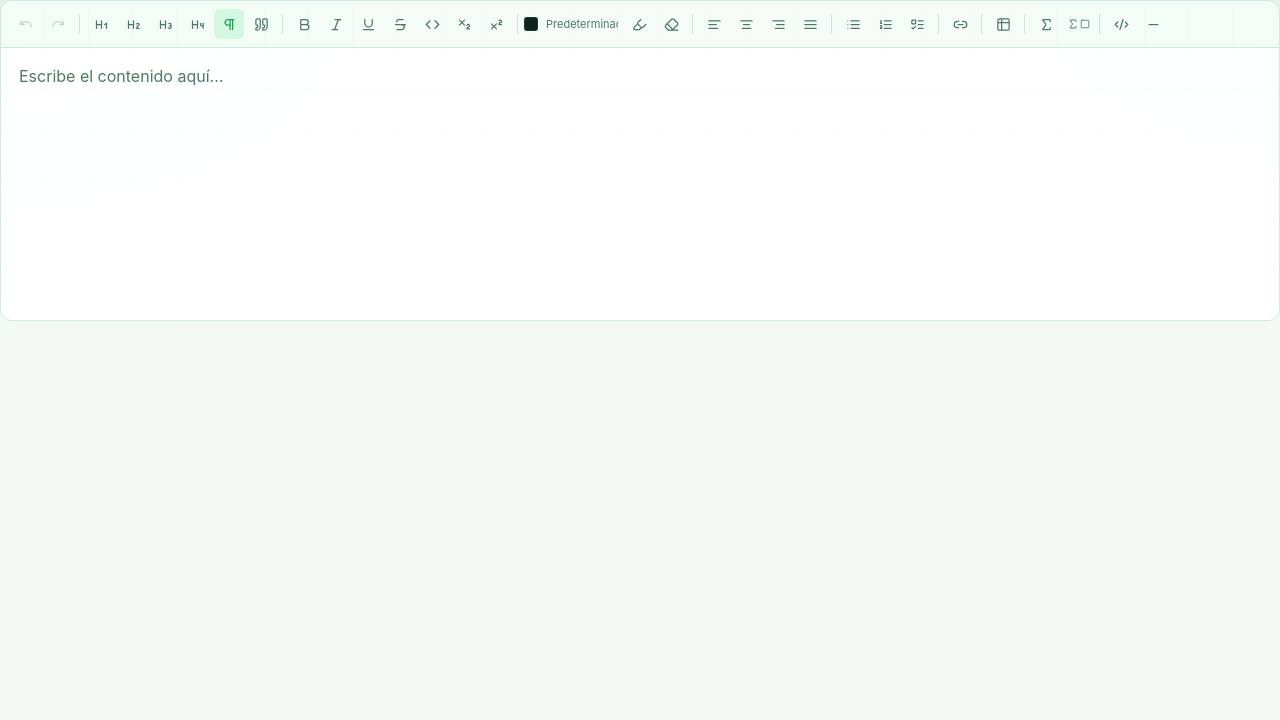
Test case: Math formula support › opens math modal when block math button is clicked
The width and height of the screenshot is (1280, 720).
What coordinates should you click on to do the following:
click the button titled "Fórmula en bloque destacado"
I would click on:
 (1078, 24)
Its box is [1063,9,1093,39].
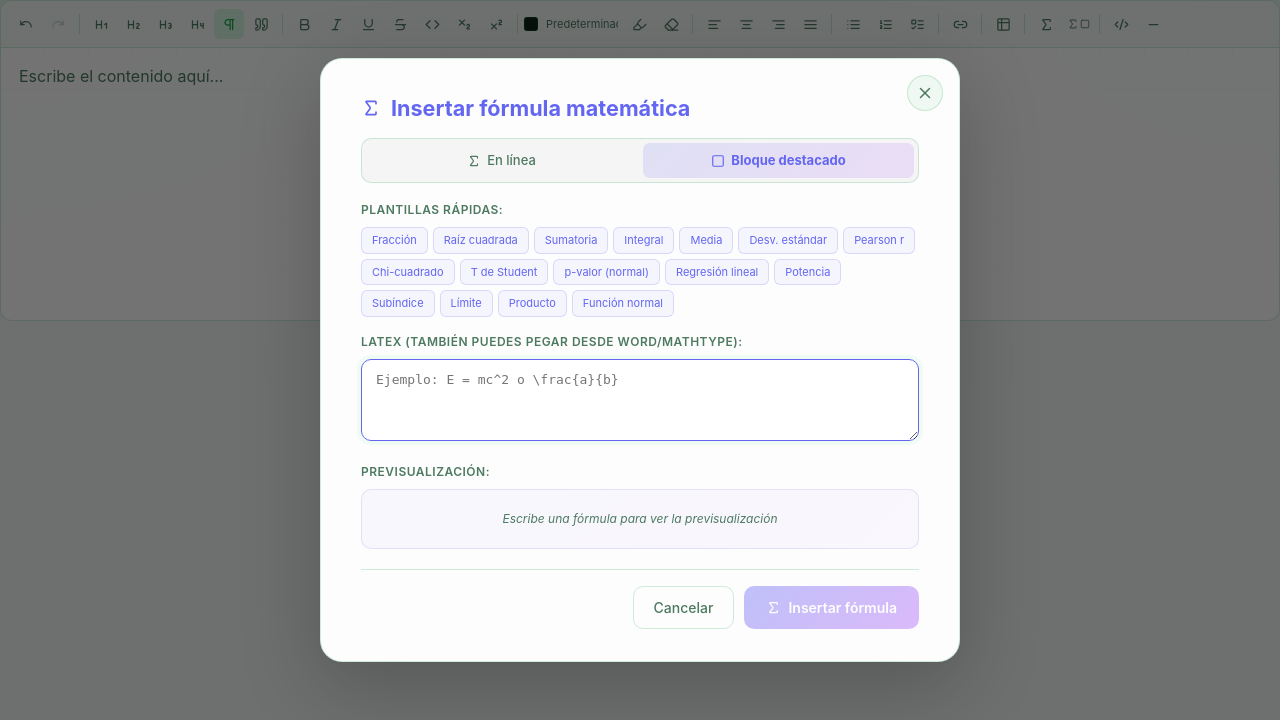
Expected: the heading "Insertar fórmula matemática" is shown, [361,95,690,121]
